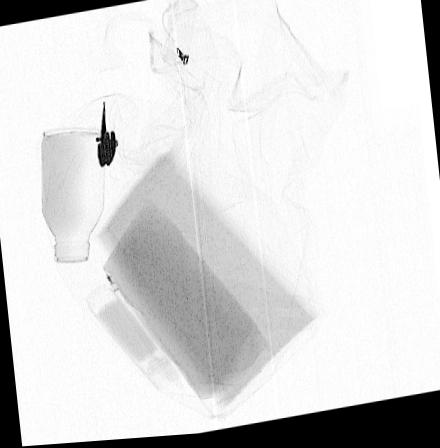Knife: (93, 100, 119, 171)
